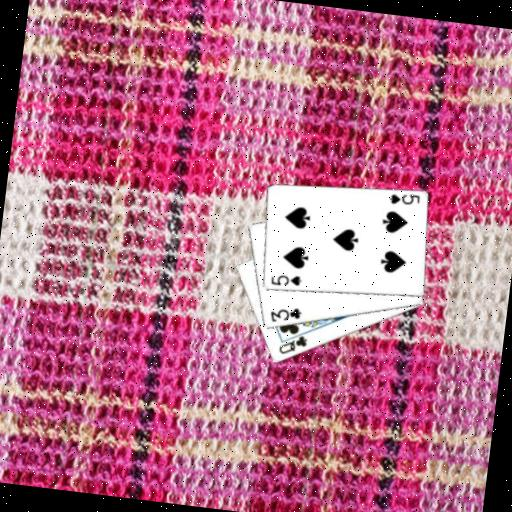3C: (266, 302, 304, 327)
5S: (386, 188, 422, 209), (267, 270, 304, 290)
QC: (275, 330, 310, 359)
